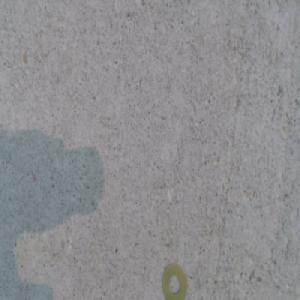Washer: (162, 265, 187, 299)
